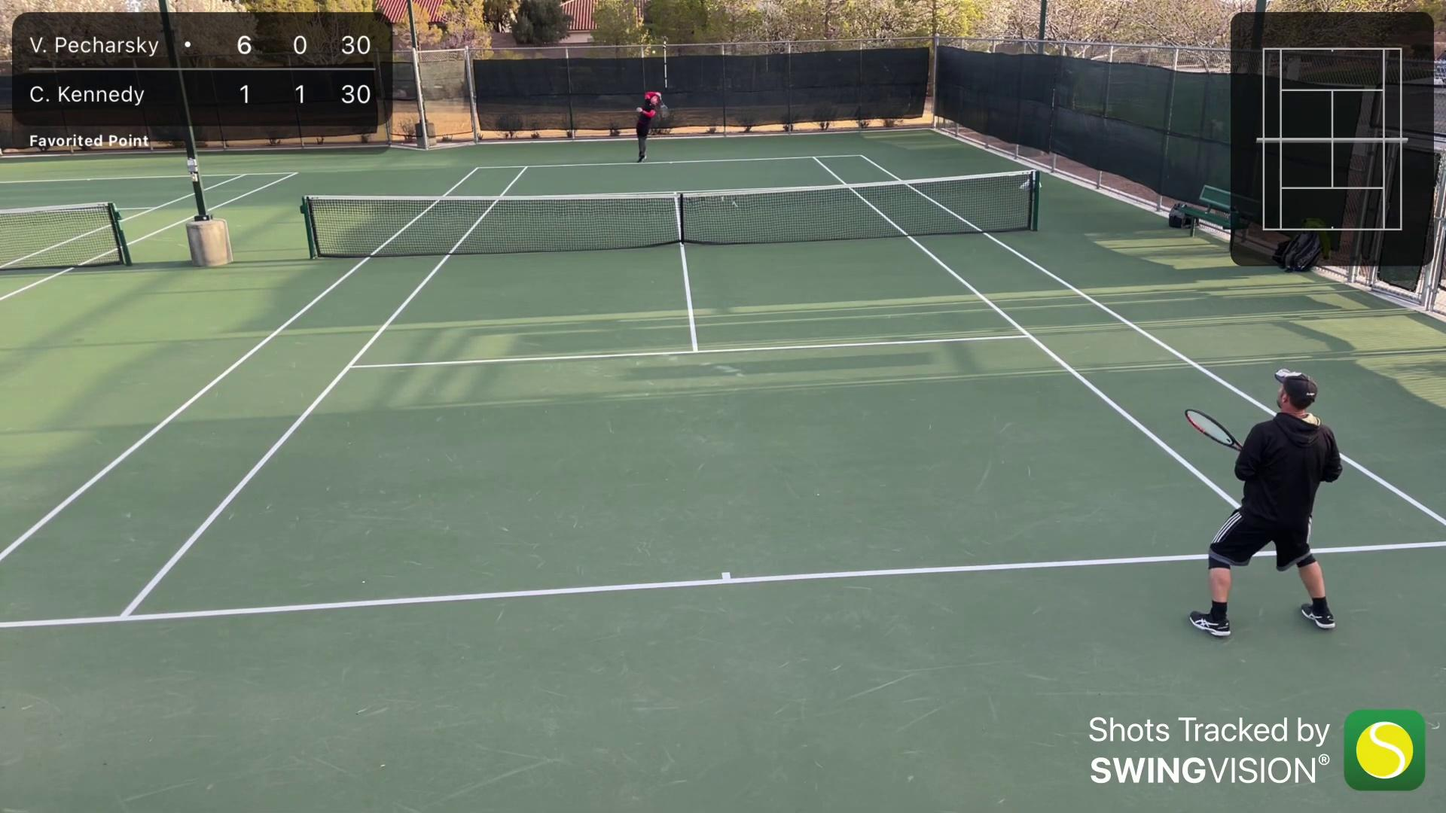ball: (650, 48, 658, 55)
